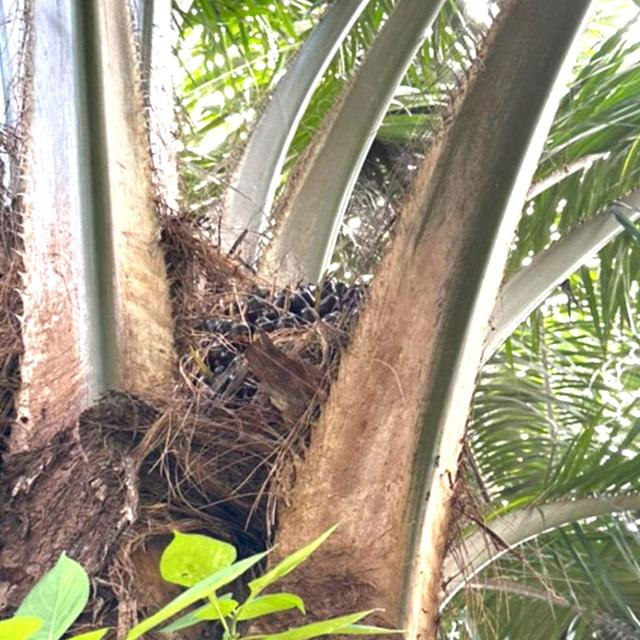almost: (179, 274, 376, 419)
